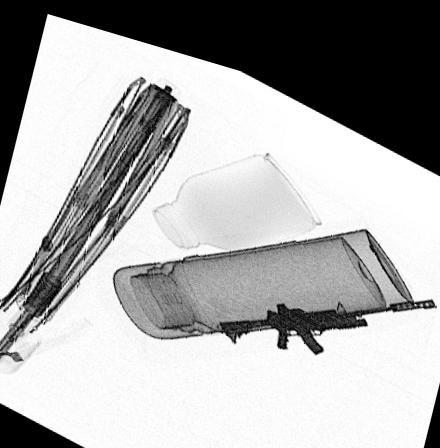Gun: (216, 272, 435, 335)
